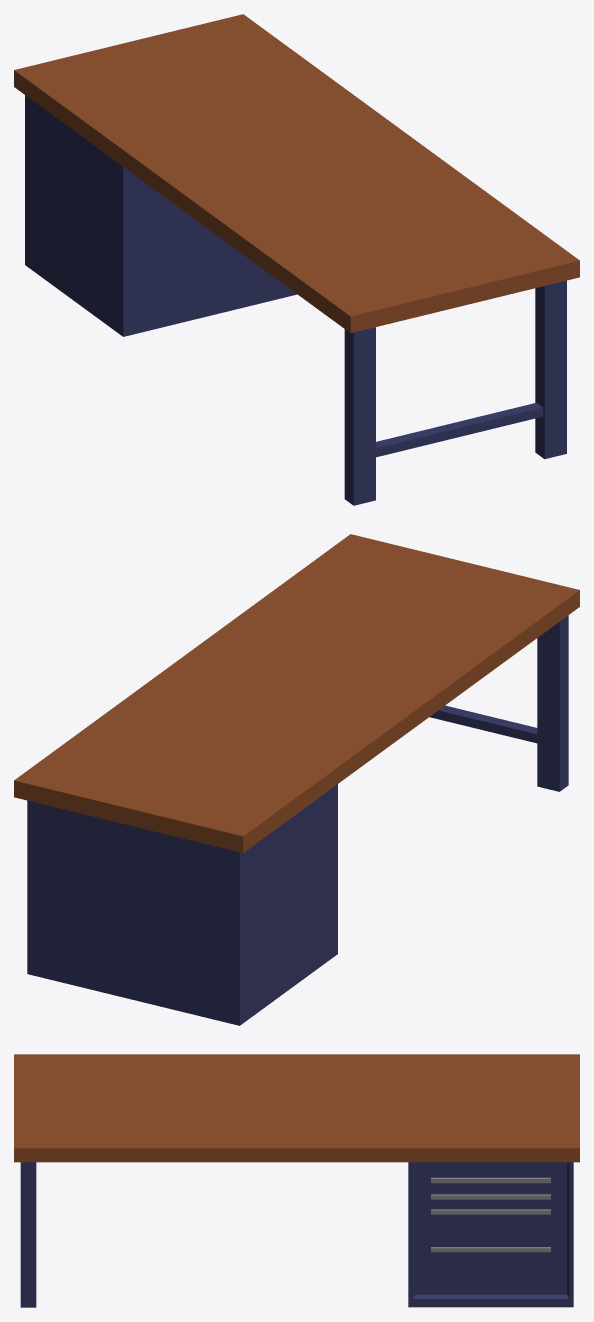
The model's file is werkbank.fbx.
3 renders of one model, top to bottom at view 1: azimuth 30°, elevation 25°; view 2: azimuth 150°, elevation 25°; view 3: azimuth 270°, elevation 25°, orthographic. The views are drawn at different scales.
Parts seen in each view (by area): view 1: Cube, Cube.005, Cube.002, Cube.003, Cube.004; view 2: Cube, Cube.005, Cube.002, Cube.004; view 3: Cube, Cube.005, Cube.003, Cube.009, Cube.008, Cube.006, Cube.007.
Part boxes in pixels (x1,y1,x2,y2): Cube: [14, 14, 579, 333]; Cube.005: [25, 95, 297, 336]; Cube.002: [344, 327, 375, 505]; Cube.003: [535, 280, 566, 459]; Cube.004: [376, 402, 543, 457]; Cube: [14, 534, 579, 852]; Cube.005: [27, 784, 337, 1025]; Cube.002: [537, 615, 568, 791]; Cube.004: [429, 705, 537, 743]; Cube: [14, 1054, 579, 1162]; Cube.005: [408, 1162, 573, 1307]; Cube.003: [20, 1162, 36, 1307]; Cube.009: [431, 1177, 550, 1183]; Cube.008: [431, 1194, 550, 1199]; Cube.006: [431, 1209, 550, 1214]; Cube.007: [431, 1247, 550, 1252].
Size of the model in its own units: 371 by 300 by 944.
